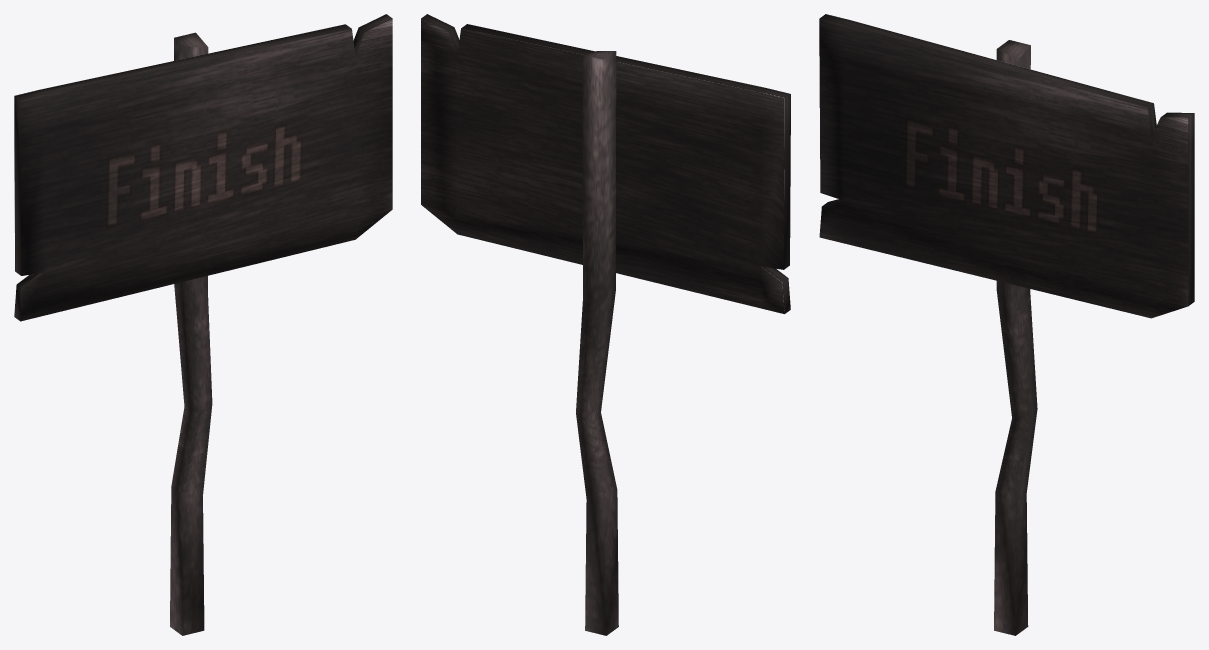
Rendered from SM_FinishSign.FBX.
3 renders of one model, left to right at view 1: azimuth 30°, elevation 25°; view 2: azimuth 150°, elevation 25°; view 3: azimuth 330°, elevation 25°, orthographic. The views are drawn at different scales.
Parts seen in each view (by area): view 1: Wooden_Sign; view 2: Wooden_Sign; view 3: Wooden_Sign.
Part boxes in pixels (left/top/right/bottom): Wooden_Sign: left=14, top=14, right=392, bottom=635; Wooden_Sign: left=421, top=14, right=790, bottom=635; Wooden_Sign: left=819, top=14, right=1194, bottom=635.
Size of the model in its own units: 275 by 416 by 26.12.
